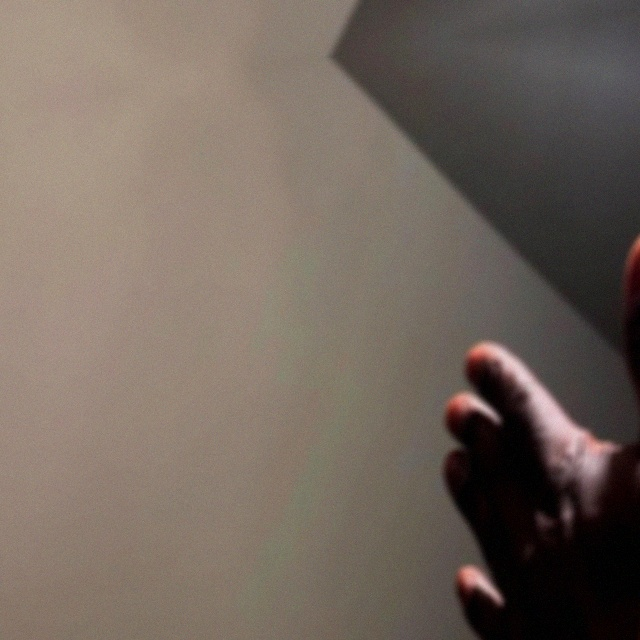Paper: (271, 153, 640, 640)
